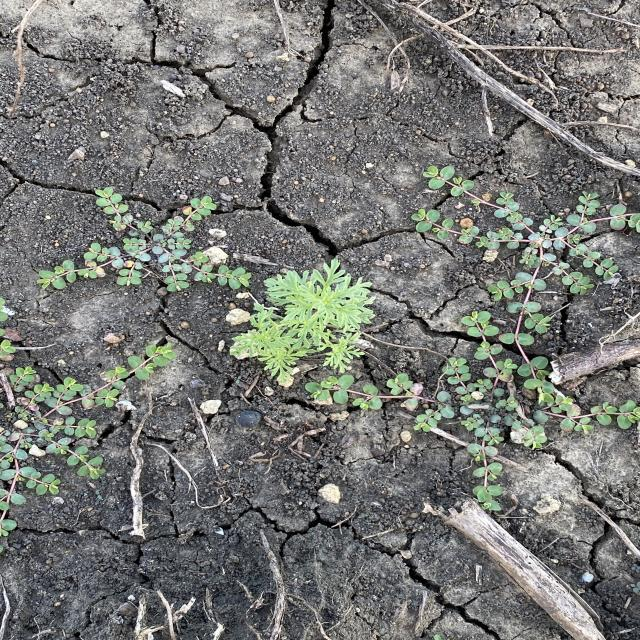Ragweed: (223, 258, 394, 386)
SpottedSpurge: (308, 308, 636, 510), (410, 163, 638, 407), (2, 315, 184, 545), (30, 185, 255, 295)
